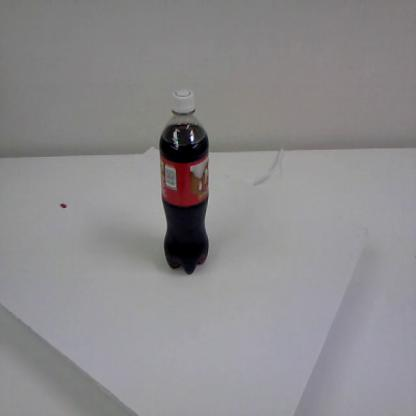bottle: (158, 86, 209, 276)
